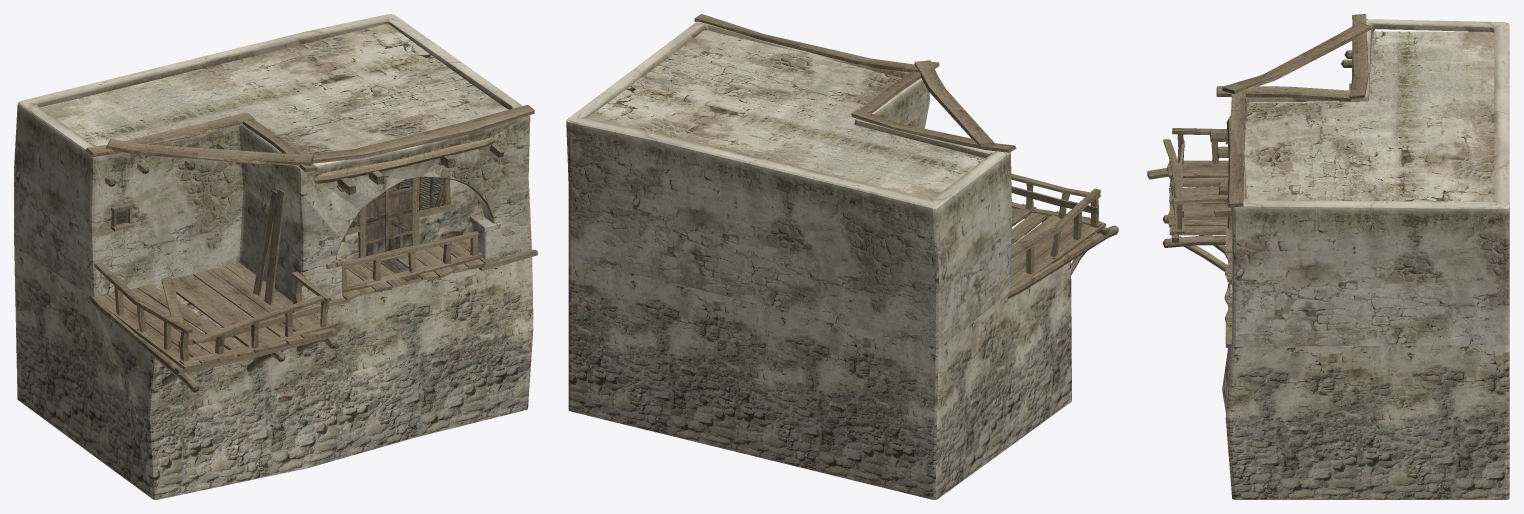
The model's file is TW2_5_HOUSE_02_22-transformed.glb.
3 views of the same model, side by side, from view 1: azimuth 30°, elevation 25°; view 2: azimuth 150°, elevation 25°; view 3: azimuth 270°, elevation 25° (orthographic).
Parts seen in each view (by area): view 1: default; view 2: default; view 3: default.
Part boxes in pixels (x1=…): default: x1=14, y1=14, x2=537, y2=499; default: x1=566, y1=14, x2=1118, y2=499; default: x1=1147, y1=14, x2=1509, y2=499.
Size of the model in its own units: 11.5 by 8.69 by 9.36.
Materials: 3 (3 with a texture image).
